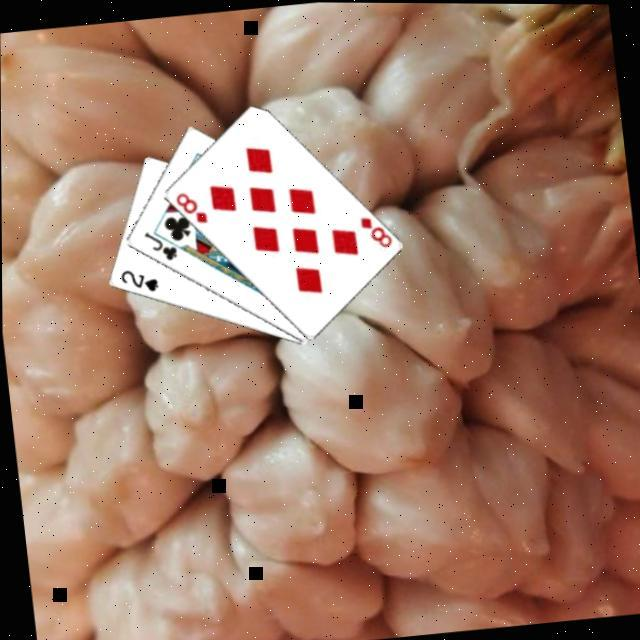2S: (115, 264, 160, 298)
8D: (169, 187, 209, 229), (356, 212, 394, 252)
JC: (138, 226, 180, 266)
